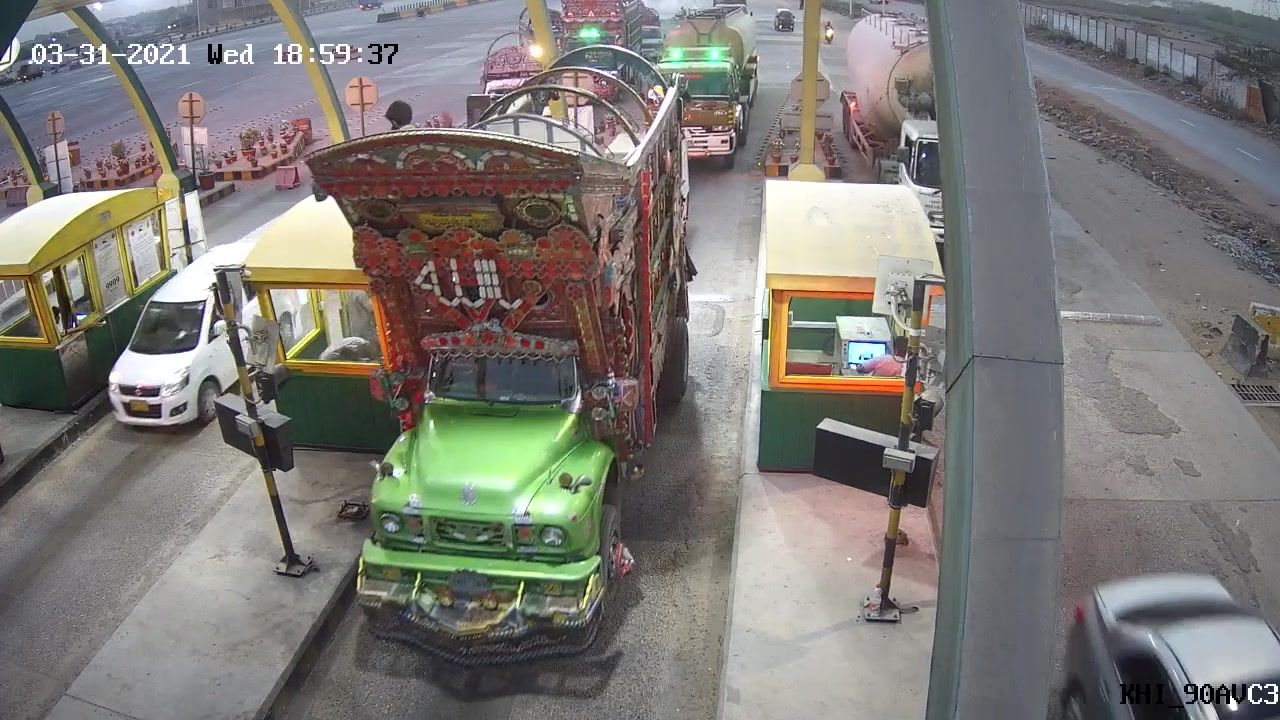F5: (313, 54, 698, 664)
